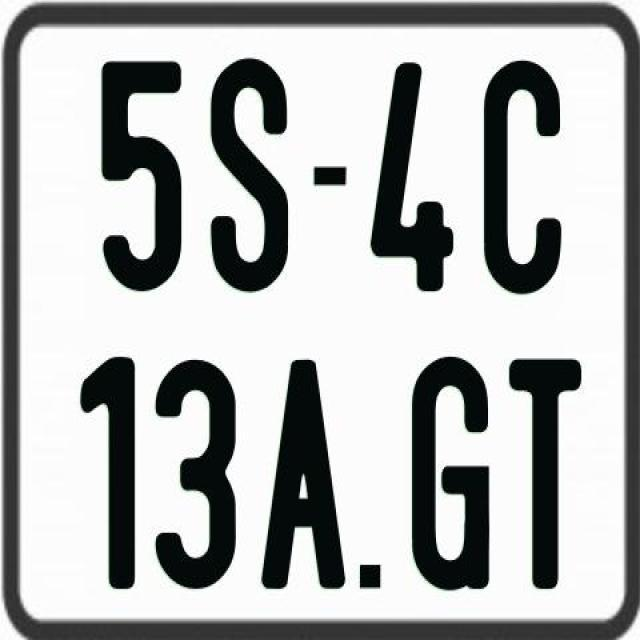1: (77, 352, 136, 592)
3: (156, 356, 243, 594)
4: (370, 58, 454, 294)
5: (100, 58, 186, 290)
A: (258, 361, 349, 594)
C: (482, 61, 562, 296)
G: (408, 354, 491, 596)
S: (210, 53, 292, 288)
T: (505, 356, 583, 594)
